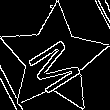M_NE: (21, 27, 87, 92)
